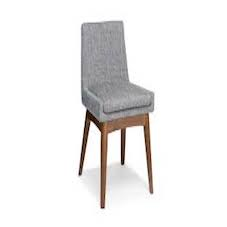chair: (43, 8, 187, 209)
